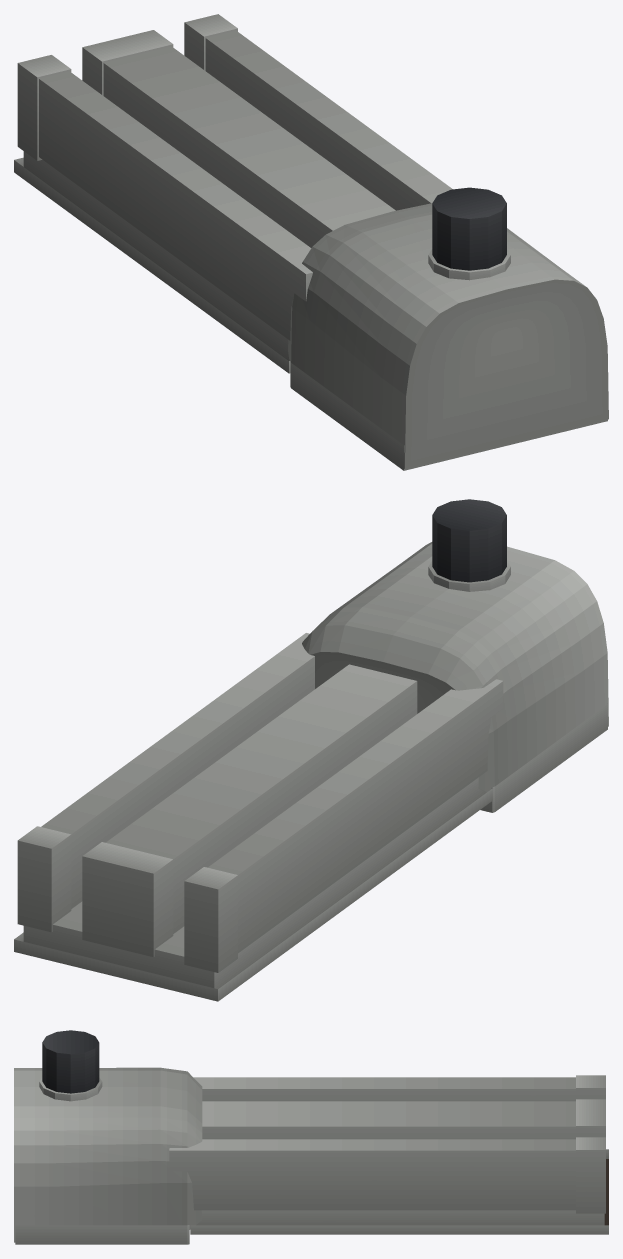
The model's file is streetlight_cinavionalt.obj.
3 views of the same model, one above another, from view 1: azimuth 30°, elevation 25°; view 2: azimuth 150°, elevation 25°; view 3: azimuth 270°, elevation 25° (orthographic). The views are drawn at different scales.
Parts seen in each view (by area): view 1: fixture; view 2: fixture; view 3: fixture.
Boxes of the visible parts, box(x1,y1,x2,y2) form: fixture: box(14, 14, 608, 470); fixture: box(14, 499, 608, 1001); fixture: box(14, 1030, 608, 1244).
Size of the model in its own units: 0.375 by 0.3794 by 1.24.
